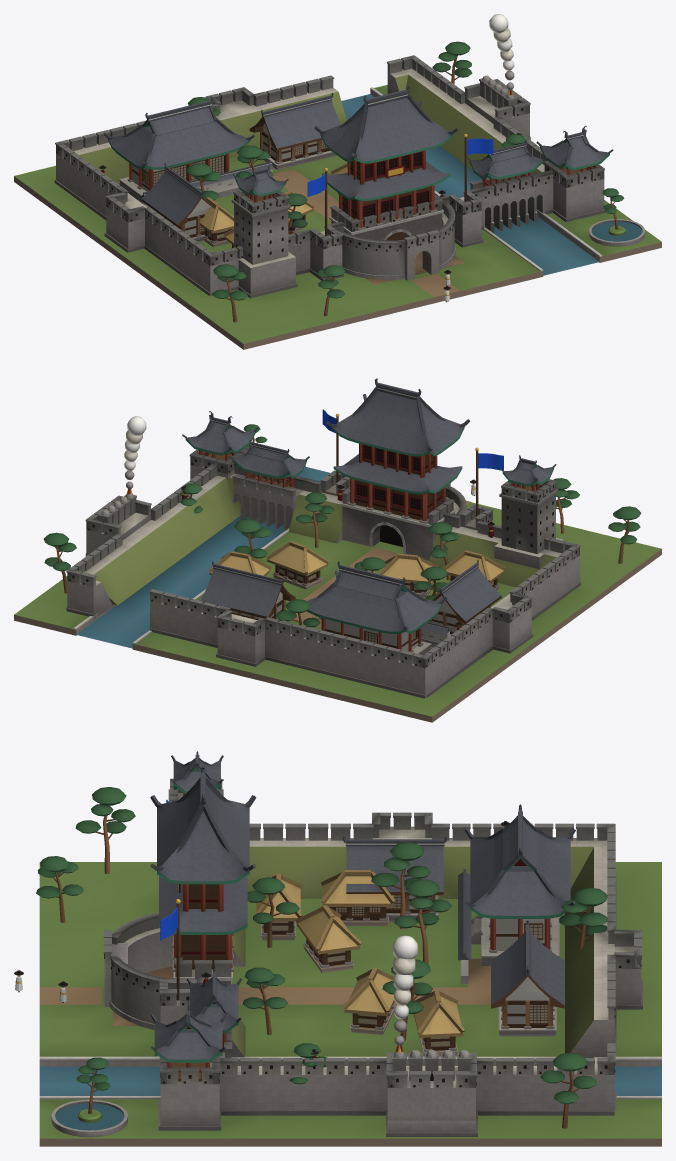
File: lm_hwaseong.glb
3 views of the same model, one above another, from view 1: azimuth 30°, elevation 25°; view 2: azimuth 150°, elevation 25°; view 3: azimuth 270°, elevation 25° (orthographic). The views are drawn at different scales.
Parts seen in each view (by area): view 1: lm_hwaseong; view 2: lm_hwaseong; view 3: lm_hwaseong.
Part boxes in pixels (<box>): lm_hwaseong: <box>14,14,661,349</box>; lm_hwaseong: <box>14,378,661,722</box>; lm_hwaseong: <box>14,751,661,1146</box>.
Size of the model in its own units: 2.26 by 0.8395 by 2.2.
Materials: 1 (1 with a texture image).
